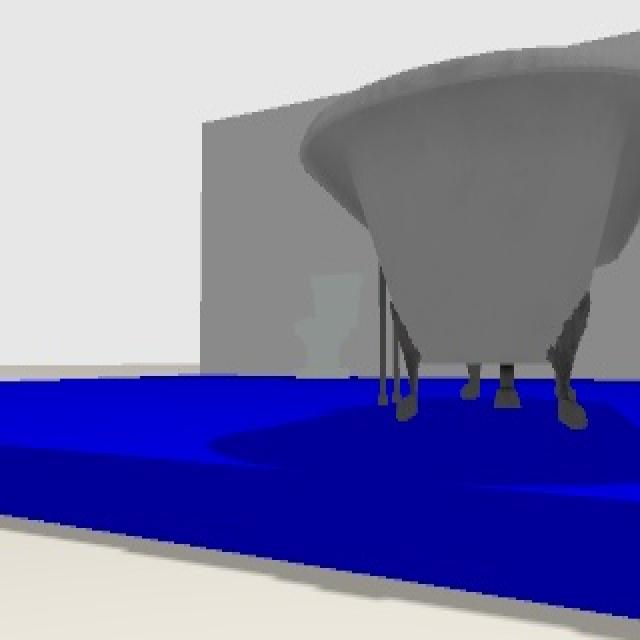bathtub: (298, 37, 638, 429)
